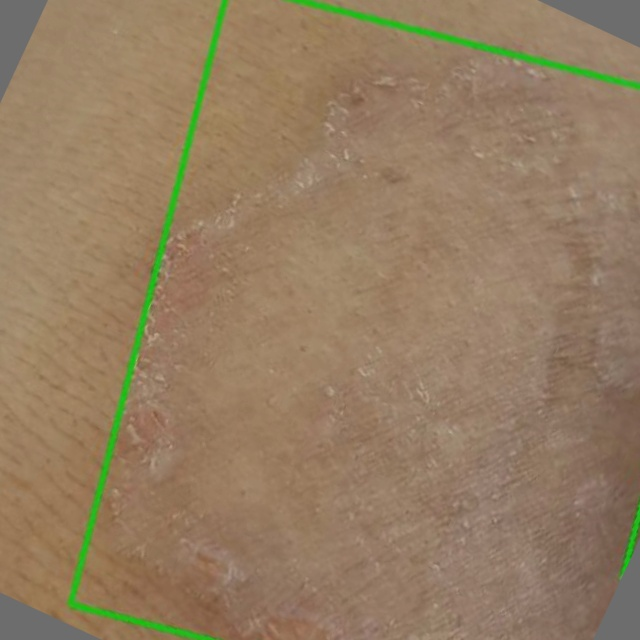Tinea Corporis: (70, 0, 639, 639)
